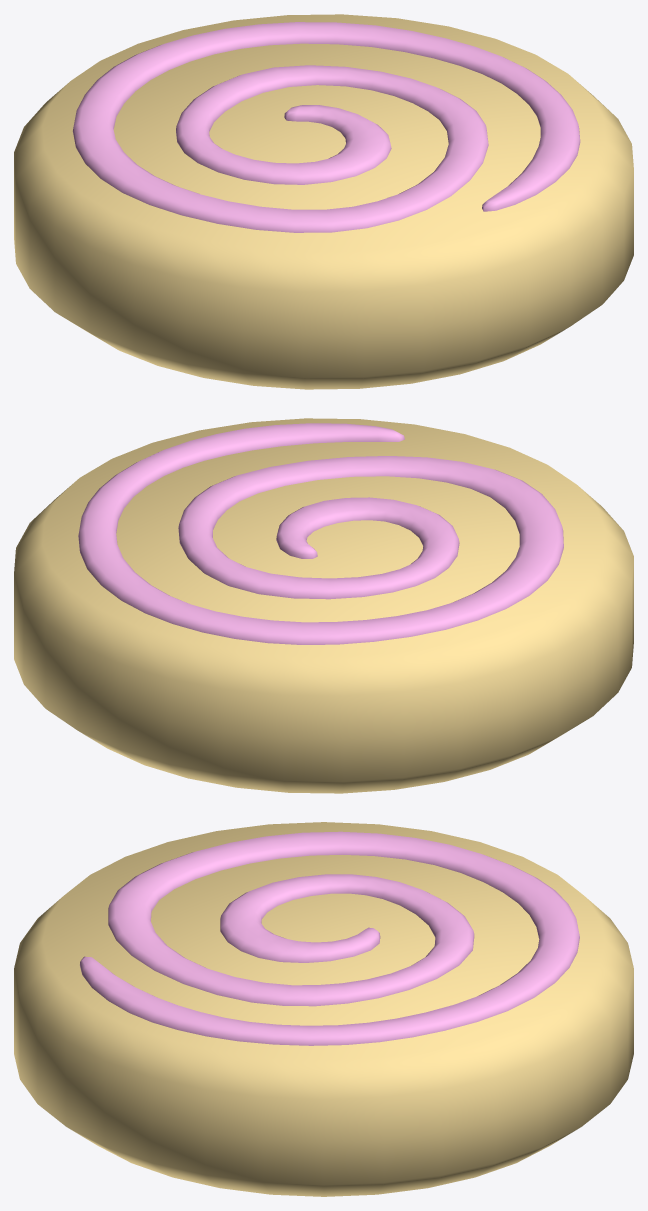
File: sweet_new.fbx
The picture shows the model from 3 angles, top to bottom: view 1: azimuth 30°, elevation 25°; view 2: azimuth 150°, elevation 25°; view 3: azimuth 270°, elevation 25°; orthographic projection.
Visible parts, largest first — view 1: sweet; view 2: sweet; view 3: sweet.
Boxes of the visible parts, <box> form: sweet: <box>14,14,633,389</box>; sweet: <box>14,418,633,793</box>; sweet: <box>14,822,633,1196</box>.
Size of what is drawn, in the model's own units: 30.16 by 8.59 by 30.16.
